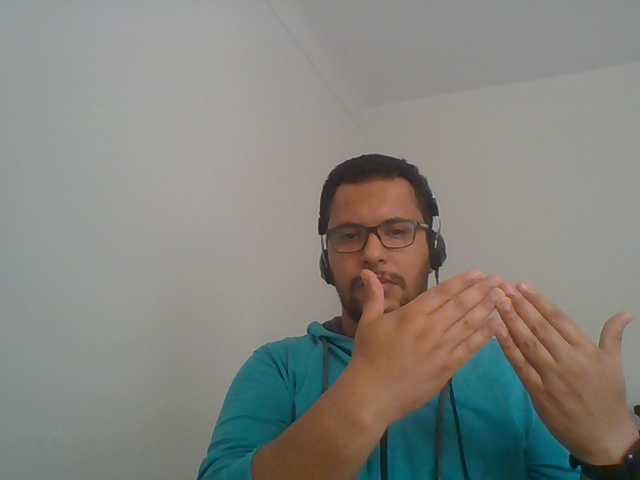thanks: (282, 257, 640, 480)
